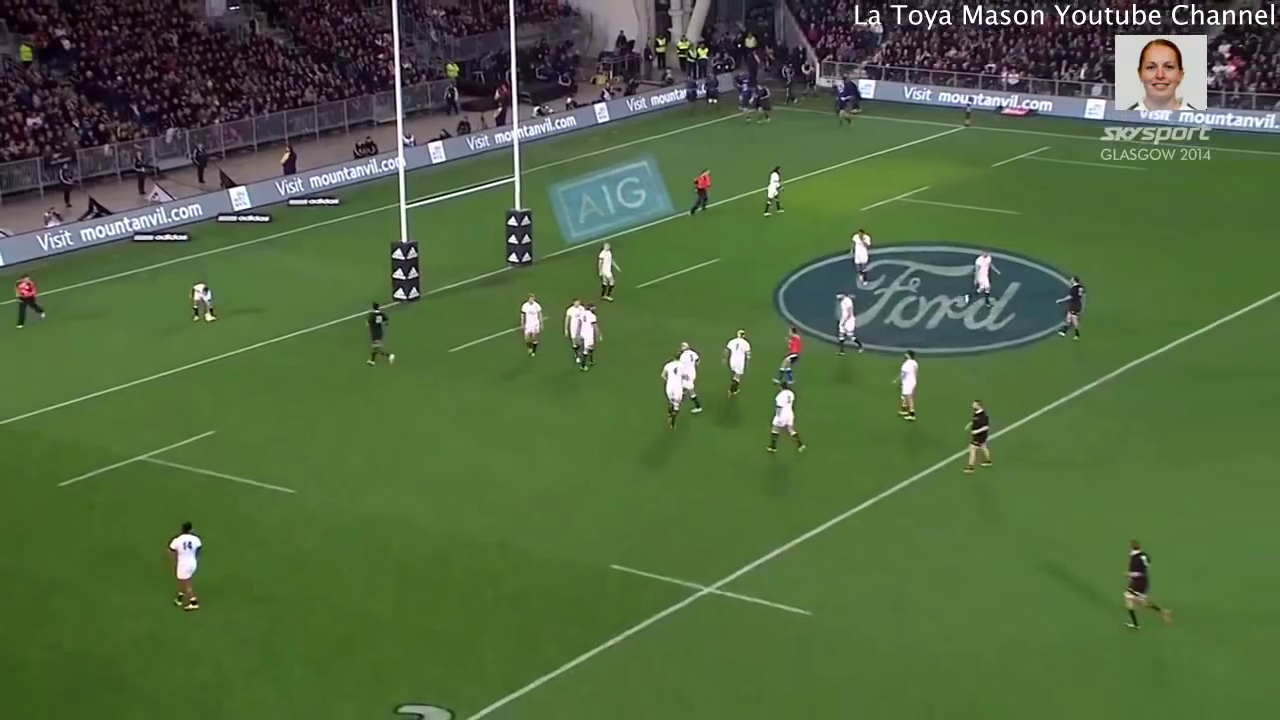player: (1117, 535, 1178, 634), (164, 518, 211, 615), (761, 380, 810, 460), (361, 296, 402, 368), (962, 392, 995, 479), (656, 352, 689, 435), (717, 327, 754, 401), (1055, 272, 1089, 347), (675, 341, 708, 417), (575, 302, 608, 372), (964, 248, 1000, 312), (831, 290, 864, 356), (891, 349, 920, 422), (514, 292, 545, 360), (771, 324, 804, 387), (181, 279, 222, 325), (561, 296, 584, 377), (759, 164, 793, 218), (596, 237, 622, 304), (846, 225, 872, 288), (688, 164, 714, 215)
post: (386, 36, 541, 307)
